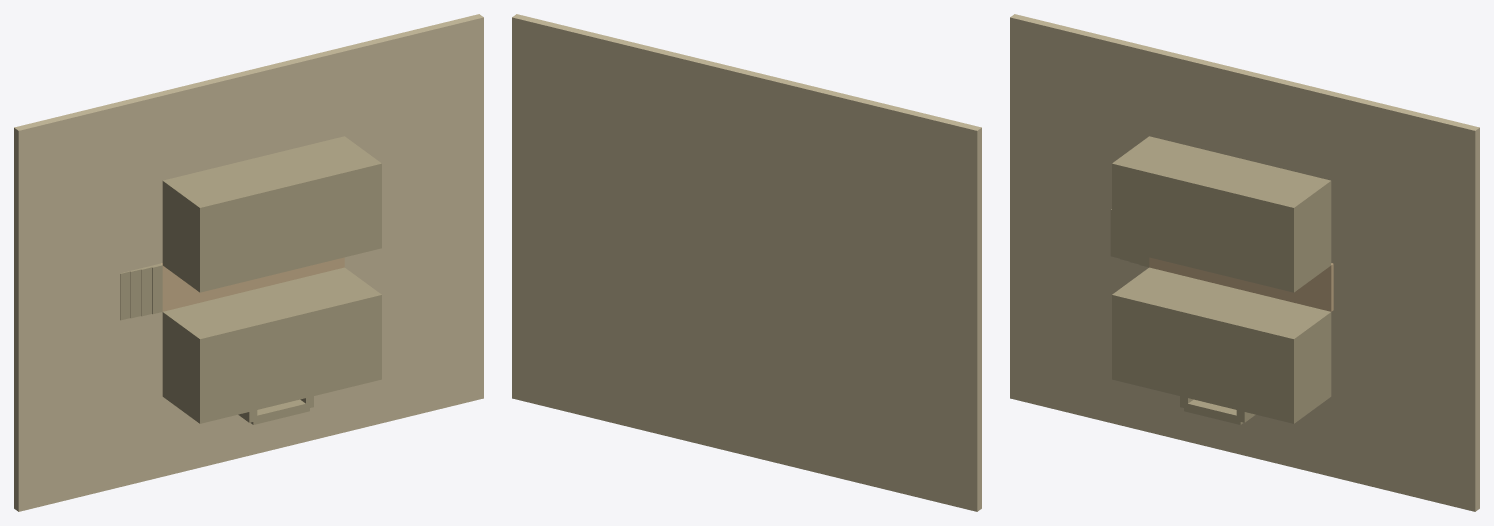
File: dholavira-gate.obj
The picture shows the model from 3 angles, left to right: view 1: azimuth 30°, elevation 25°; view 2: azimuth 150°, elevation 25°; view 3: azimuth 330°, elevation 25°; orthographic projection.
Parts seen in each view (by area): view 1: ground_0, passage_2, passage_3, passage_1, guard-room_12, passage_5, passage_7, passage_6, passage_4; view 2: ground_0; view 3: ground_0, passage_2, passage_3, passage_1, guard-room_12.
Boxes of the visible parts, x1,y1,x2,y2 form: ground_0: (14, 14, 483, 511); passage_2: (162, 267, 381, 423); passage_3: (162, 136, 381, 292); passage_1: (161, 257, 344, 311); guard-room_12: (250, 399, 309, 424); passage_5: (130, 268, 141, 318); passage_7: (150, 263, 162, 314); passage_6: (140, 266, 151, 316); passage_4: (120, 271, 130, 320); ground_0: (512, 14, 981, 511); ground_0: (1010, 14, 1479, 511); passage_2: (1112, 267, 1331, 423); passage_3: (1112, 136, 1331, 292); passage_1: (1149, 257, 1333, 311); guard-room_12: (1184, 399, 1243, 424).
Size of the model in its own units: 23 by 18 by 3.8.
